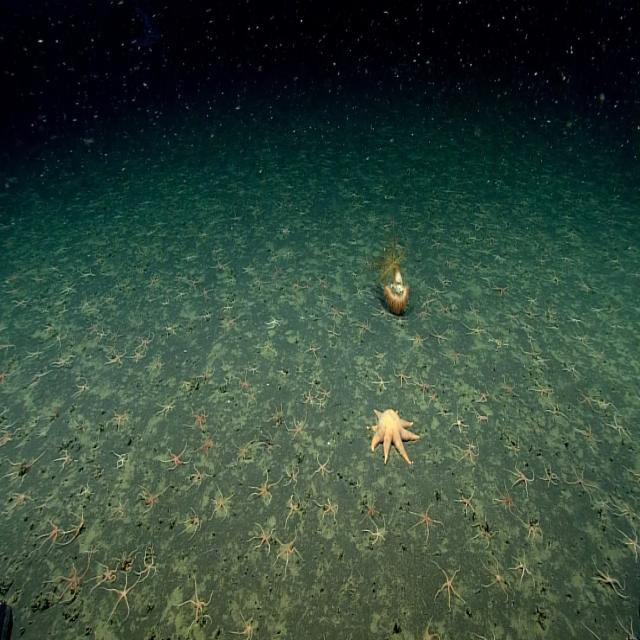brittle-stars: (434, 562, 465, 610), (55, 561, 89, 602), (111, 574, 139, 618), (184, 582, 213, 622), (112, 541, 144, 577), (594, 562, 624, 598), (482, 559, 508, 599), (409, 505, 439, 538), (566, 462, 592, 500), (4, 458, 38, 485), (276, 534, 300, 571), (251, 469, 277, 502), (494, 483, 518, 517), (510, 463, 535, 493), (252, 522, 275, 554), (474, 516, 497, 547), (94, 560, 120, 587), (40, 518, 63, 548), (581, 622, 619, 640), (512, 552, 534, 583), (544, 398, 570, 424), (210, 486, 231, 518), (139, 484, 163, 512), (618, 527, 640, 557), (234, 610, 256, 640), (164, 445, 189, 471), (615, 498, 640, 524), (608, 411, 630, 440), (8, 488, 35, 511), (454, 443, 478, 468), (67, 512, 86, 543), (182, 508, 200, 540), (140, 550, 158, 582), (198, 432, 220, 458), (98, 282, 120, 308), (208, 255, 236, 275), (30, 363, 54, 386), (317, 498, 338, 524), (456, 488, 475, 515), (366, 518, 385, 545), (617, 618, 640, 640), (236, 439, 254, 466), (578, 419, 597, 444), (70, 413, 89, 438), (287, 418, 307, 441), (316, 456, 334, 480), (539, 462, 556, 487), (531, 379, 552, 399), (530, 252, 553, 270), (157, 398, 177, 418), (57, 449, 75, 471), (578, 387, 596, 409), (190, 409, 208, 431), (262, 432, 278, 456), (416, 376, 435, 396), (352, 280, 371, 300), (394, 366, 411, 388), (0, 366, 17, 388), (525, 520, 541, 543), (112, 411, 131, 430), (420, 621, 439, 640), (522, 342, 541, 361), (445, 346, 465, 364), (361, 498, 378, 519), (110, 496, 127, 517), (188, 464, 204, 486), (107, 349, 126, 367), (410, 332, 427, 352), (464, 321, 484, 338), (0, 426, 17, 446), (435, 404, 453, 422), (284, 463, 298, 486), (55, 353, 75, 369), (452, 414, 468, 434), (480, 270, 496, 290), (286, 495, 299, 519), (629, 462, 640, 490), (433, 326, 450, 344), (112, 450, 128, 469), (564, 359, 580, 378), (149, 355, 164, 375), (572, 331, 589, 348), (355, 316, 371, 334), (36, 495, 52, 513), (74, 378, 89, 397), (0, 336, 15, 355), (54, 330, 68, 350), (508, 437, 522, 457), (271, 406, 284, 427), (374, 375, 390, 392), (375, 306, 392, 322), (27, 345, 44, 361), (138, 333, 154, 350), (491, 281, 509, 296), (501, 379, 516, 397), (155, 294, 170, 312), (201, 367, 215, 386), (474, 409, 490, 425), (491, 337, 508, 352), (476, 386, 490, 404), (80, 293, 94, 311), (142, 628, 163, 640), (62, 280, 77, 296), (580, 279, 595, 295), (109, 325, 123, 342), (245, 388, 259, 405), (88, 540, 102, 557), (589, 346, 603, 363), (268, 314, 283, 329), (471, 631, 496, 640), (307, 343, 321, 359), (131, 349, 147, 363), (330, 307, 346, 321), (12, 295, 28, 309), (303, 389, 316, 406), (239, 375, 252, 392), (548, 271, 562, 286), (429, 284, 444, 298), (564, 228, 579, 242), (165, 321, 178, 337), (201, 285, 214, 301), (326, 322, 339, 338), (79, 482, 91, 499), (347, 265, 359, 282), (590, 305, 604, 319), (568, 314, 582, 328), (227, 315, 240, 330), (598, 494, 610, 510), (319, 386, 332, 400), (247, 361, 260, 375), (524, 308, 538, 321), (80, 269, 94, 282), (232, 209, 245, 223), (535, 355, 548, 369), (359, 253, 371, 268), (242, 264, 255, 277), (148, 274, 160, 288), (221, 302, 233, 316), (290, 278, 302, 292), (317, 291, 331, 303), (187, 277, 199, 291), (42, 321, 54, 335), (264, 340, 275, 355), (526, 293, 538, 306), (421, 295, 433, 308), (175, 288, 188, 300), (508, 311, 520, 324), (58, 305, 70, 318), (468, 304, 479, 318), (599, 396, 610, 410), (472, 261, 483, 275), (90, 319, 100, 334), (440, 301, 450, 316), (561, 253, 573, 265), (467, 233, 479, 245), (427, 392, 439, 404), (493, 251, 505, 263), (477, 208, 489, 220), (512, 233, 524, 245), (253, 275, 264, 288), (417, 307, 430, 318), (316, 398, 326, 412), (308, 378, 319, 390), (273, 267, 284, 279), (481, 246, 493, 257), (445, 256, 456, 268), (225, 274, 236, 286), (443, 275, 453, 288), (431, 236, 442, 247), (296, 312, 306, 324), (97, 328, 107, 340), (395, 316, 407, 326), (471, 218, 481, 230), (437, 221, 447, 233), (452, 234, 462, 246), (303, 280, 313, 292), (49, 264, 59, 275), (319, 280, 329, 291), (325, 250, 334, 262), (488, 234, 497, 246), (174, 274, 184, 284), (633, 268, 640, 282), (282, 224, 290, 236), (353, 202, 362, 212)
